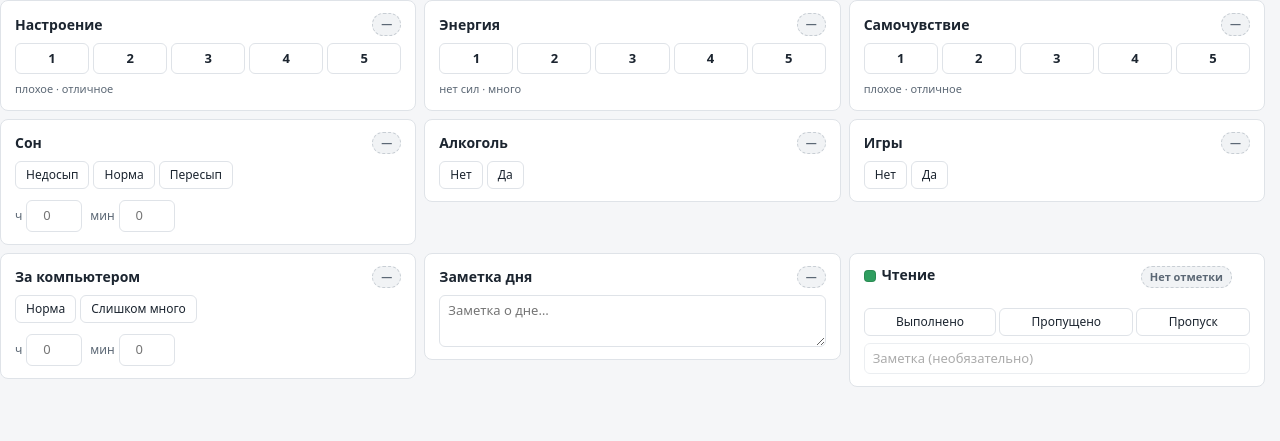
Scenario: independent check-in card lifecycle › OK completes Чтение immediately and exactly once
Expected: the text "Настроение" is shown, [15, 15, 102, 34]
Click the button "Выполнено": (930, 322) [864, 308, 996, 336]
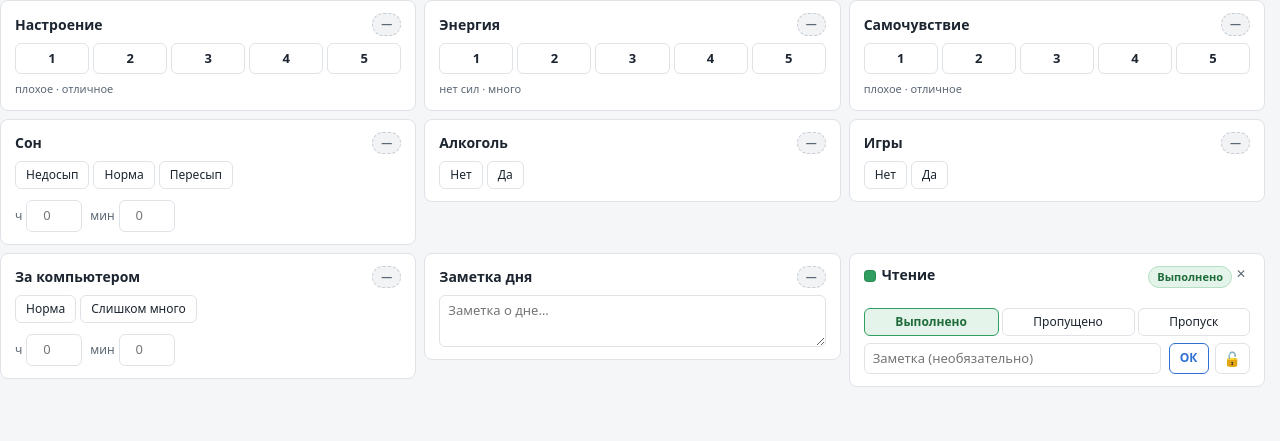
Expected: the button "ОК" is enabled
Click the button "ОК": (1188, 358) [1168, 343, 1208, 374]
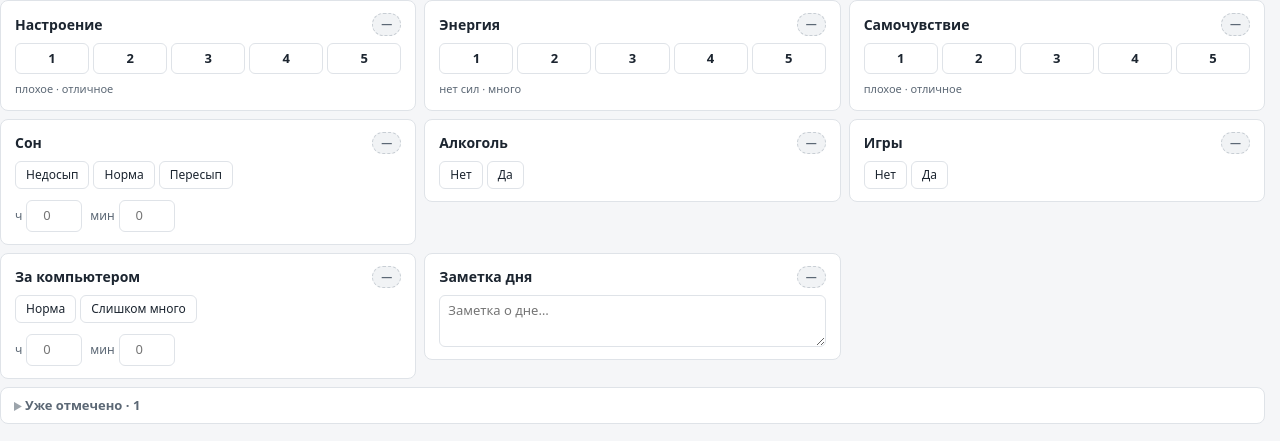
Expected: the element named "Чтение" is shown, [0, 386, 1265, 424]
Expected: the heading "Уже отмечено · 1" is shown, [25, 396, 140, 414]
